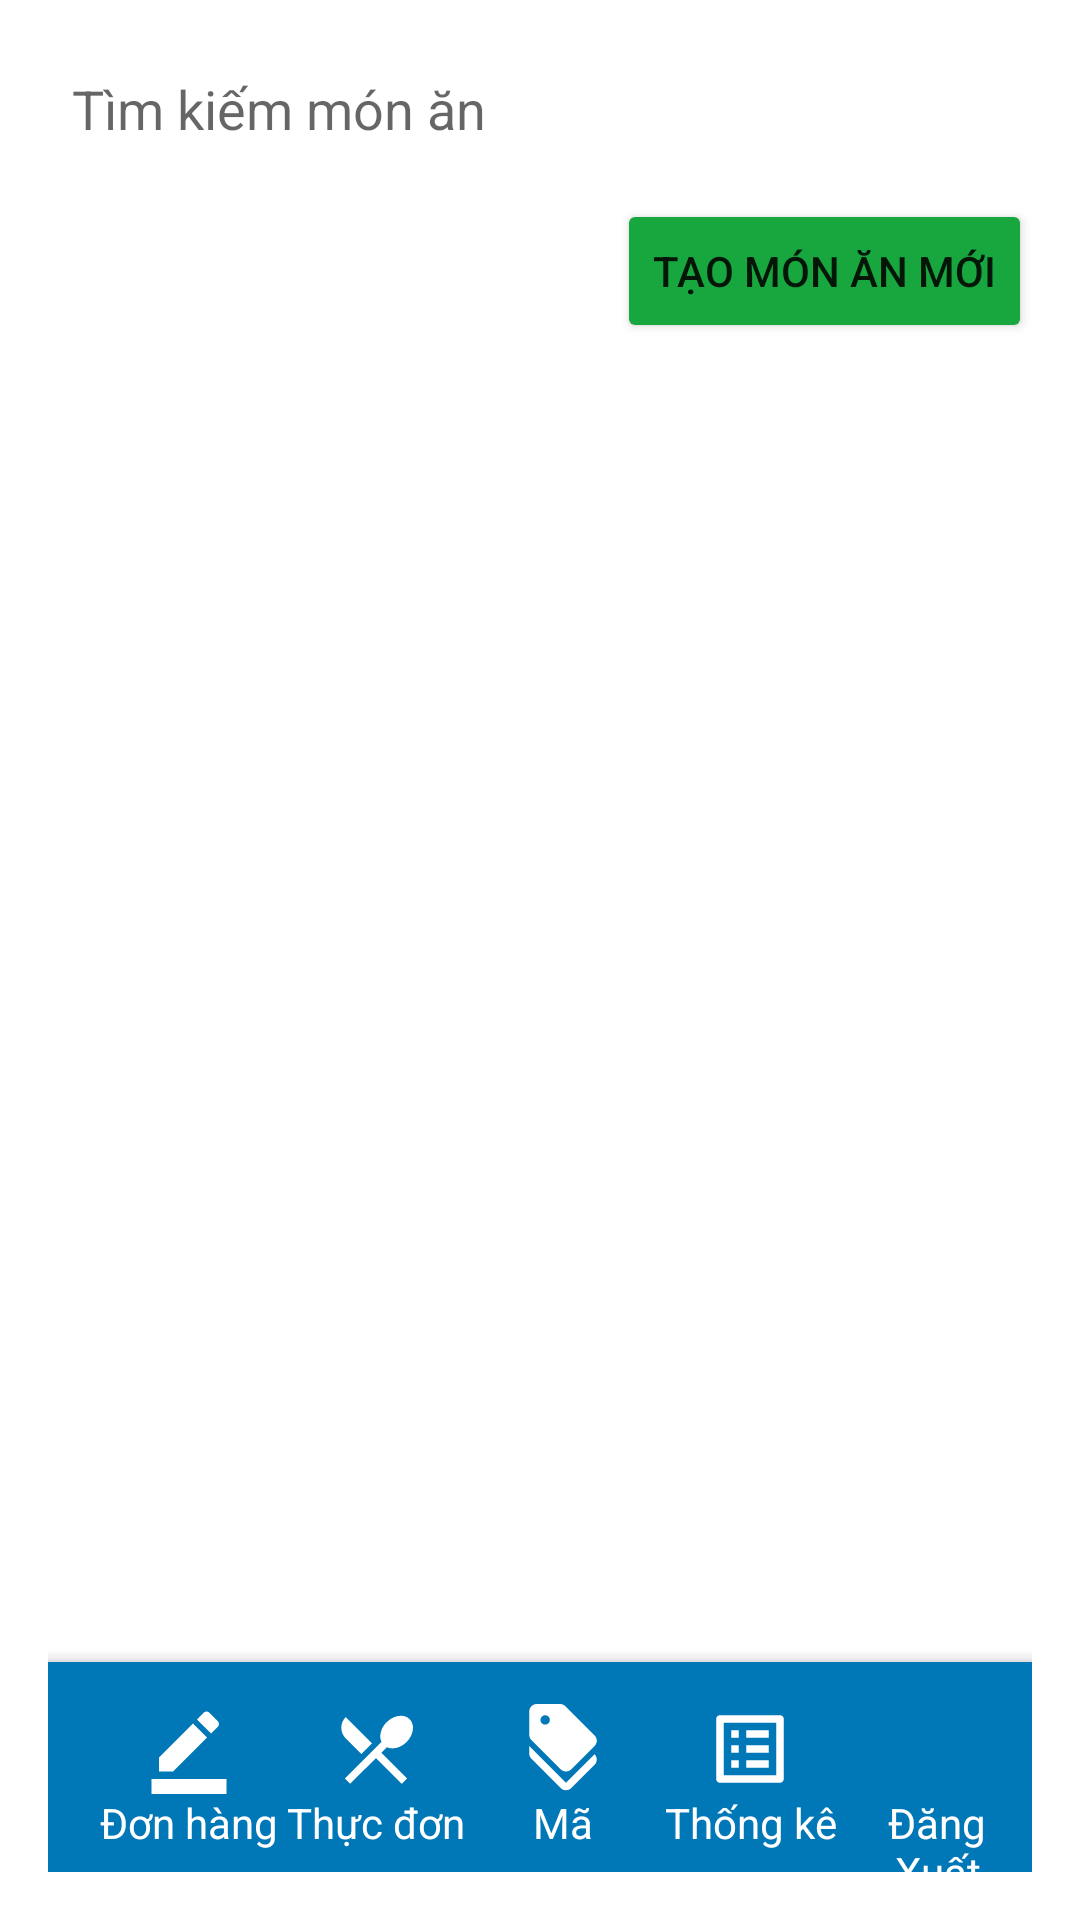

Screen size 1080 x 1920. Icon name, then its box in pixels as (x1, y1, x2, y2):
discount: (529, 1704, 597, 1791)
list: (716, 1715, 784, 1783)
